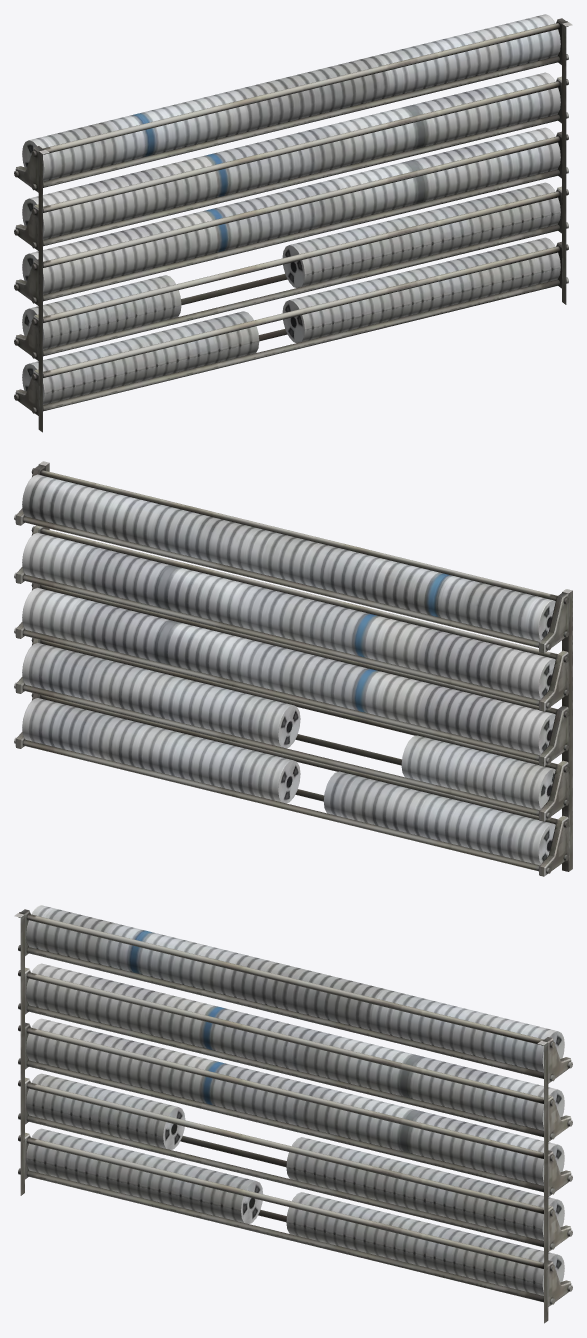
The picture shows the model from 3 angles, top to bottom: view 1: azimuth 30°, elevation 25°; view 2: azimuth 150°, elevation 25°; view 3: azimuth 330°, elevation 25°; orthographic projection.
Parts seen in each view (by area): view 1: body0_model0_lod0_mesh0; view 2: body0_model0_lod0_mesh0; view 3: body0_model0_lod0_mesh0.
Part boxes in pixels (x1,y1,x2,y2): body0_model0_lod0_mesh0: [14, 14, 572, 432]; body0_model0_lod0_mesh0: [14, 461, 572, 876]; body0_model0_lod0_mesh0: [14, 905, 572, 1323].
Bounding box in the file's own units: 257 × 128 × 23.28.
Materials: 1 (1 with a texture image).
